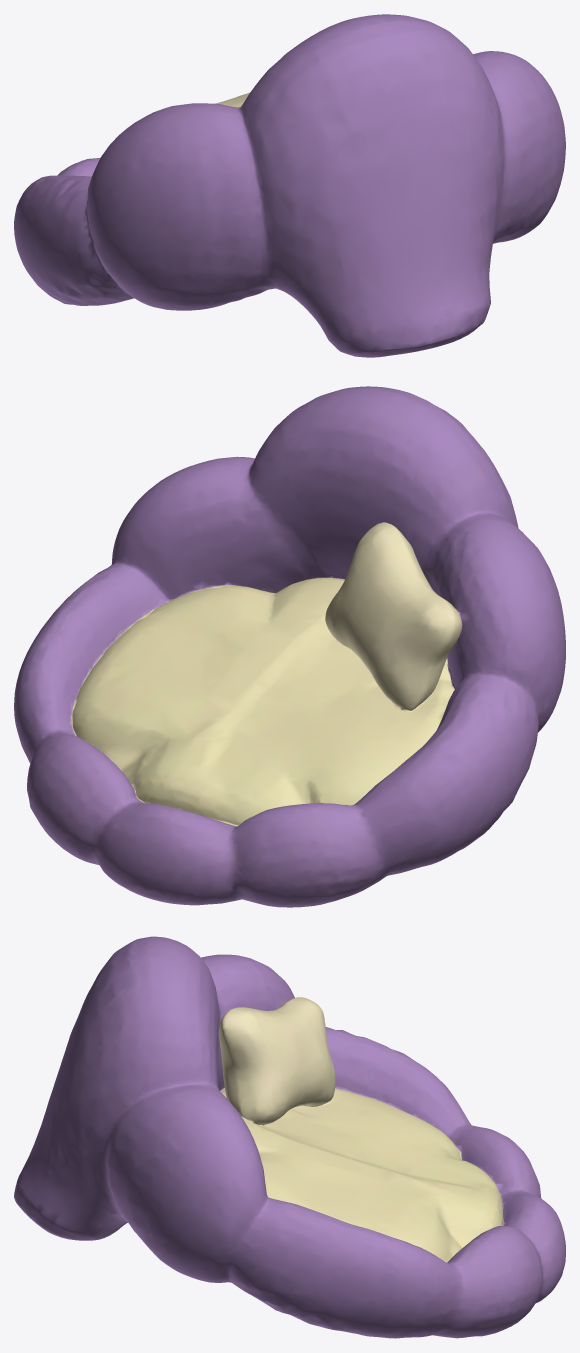
The model's file is item_bed.glb.
3 renders of one model, top to bottom at view 1: azimuth 30°, elevation 25°; view 2: azimuth 150°, elevation 25°; view 3: azimuth 270°, elevation 25°, orthographic. The views are drawn at different scales.
Parts seen in each view (by area): view 1: geometry_0; view 2: geometry_0; view 3: geometry_0.
Part boxes in pixels (x1,y1,x2,y2): geometry_0: (14,14,565,357); geometry_0: (14,386,565,907); geometry_0: (14,936,565,1338).
Size of the model in its own units: 0.8435 by 0.6117 by 0.9172.
1 material, 1 textured.
